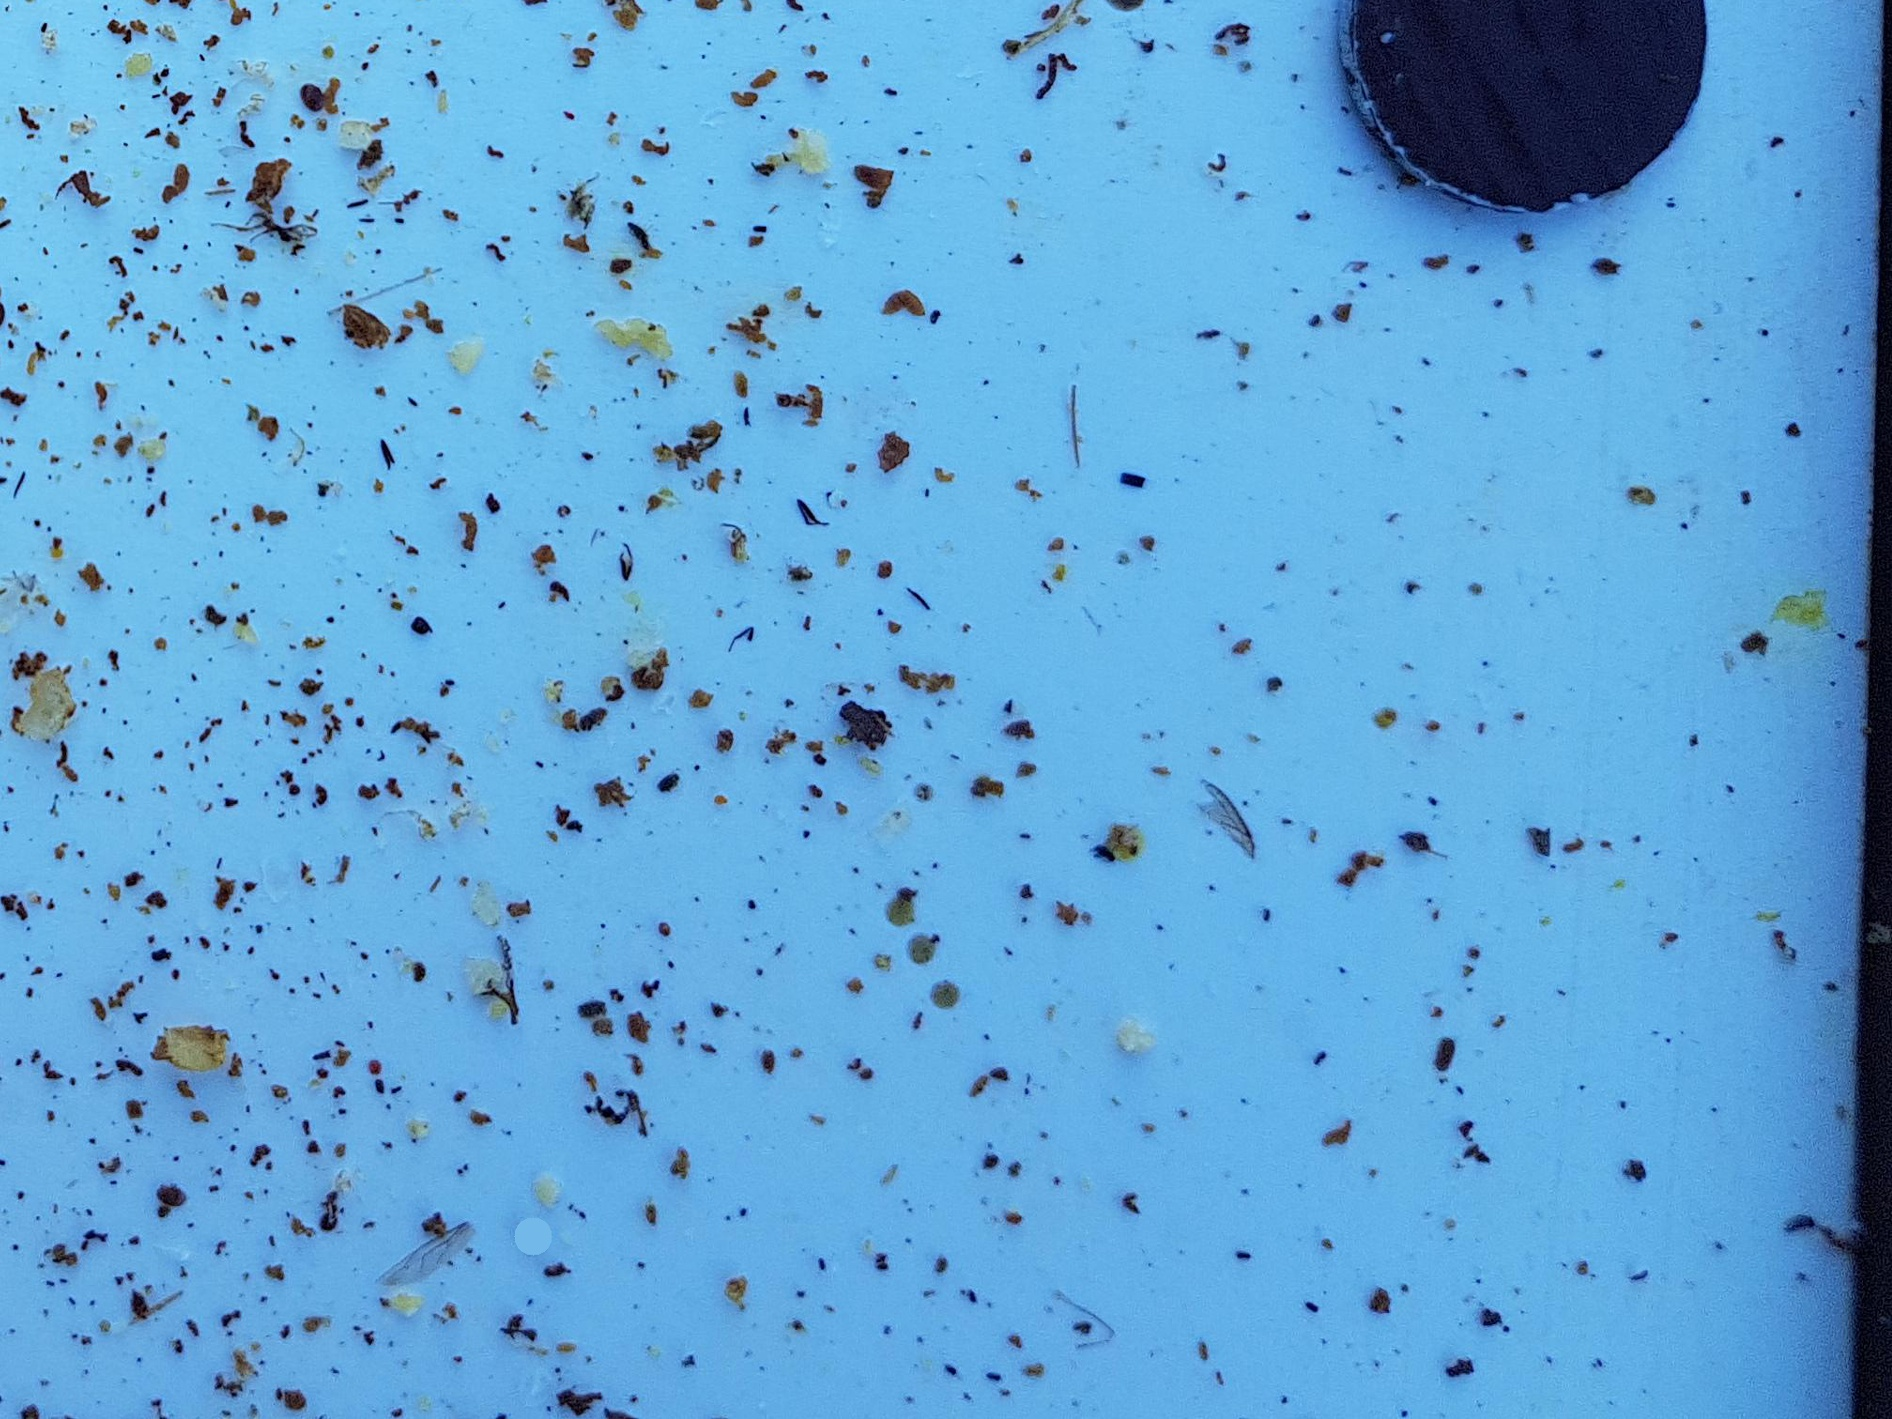Varroa: (302, 86, 329, 113), (156, 1181, 182, 1207)
